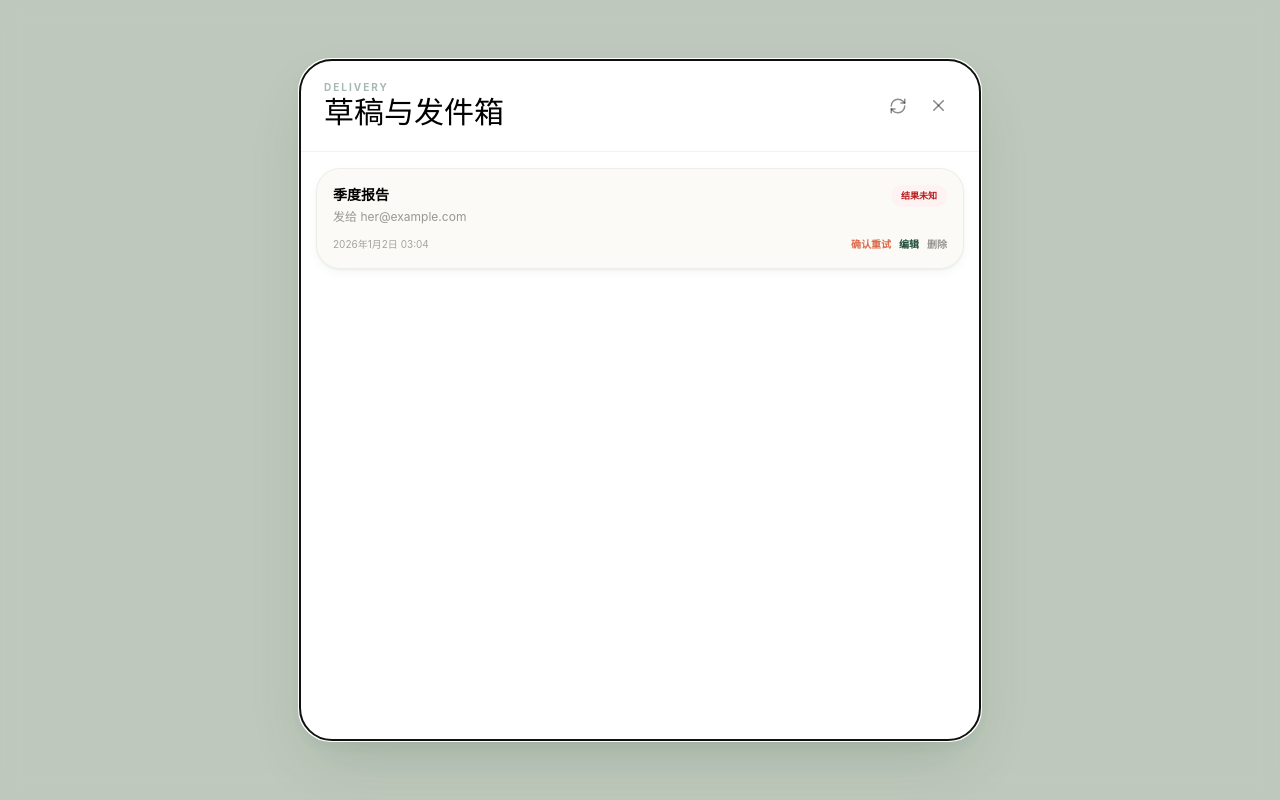
Test case: outbox dialog › surfaces a failed retry and keeps the row actionable
Click the button "确认重试": (871, 244) left=851, top=237, right=891, bottom=252
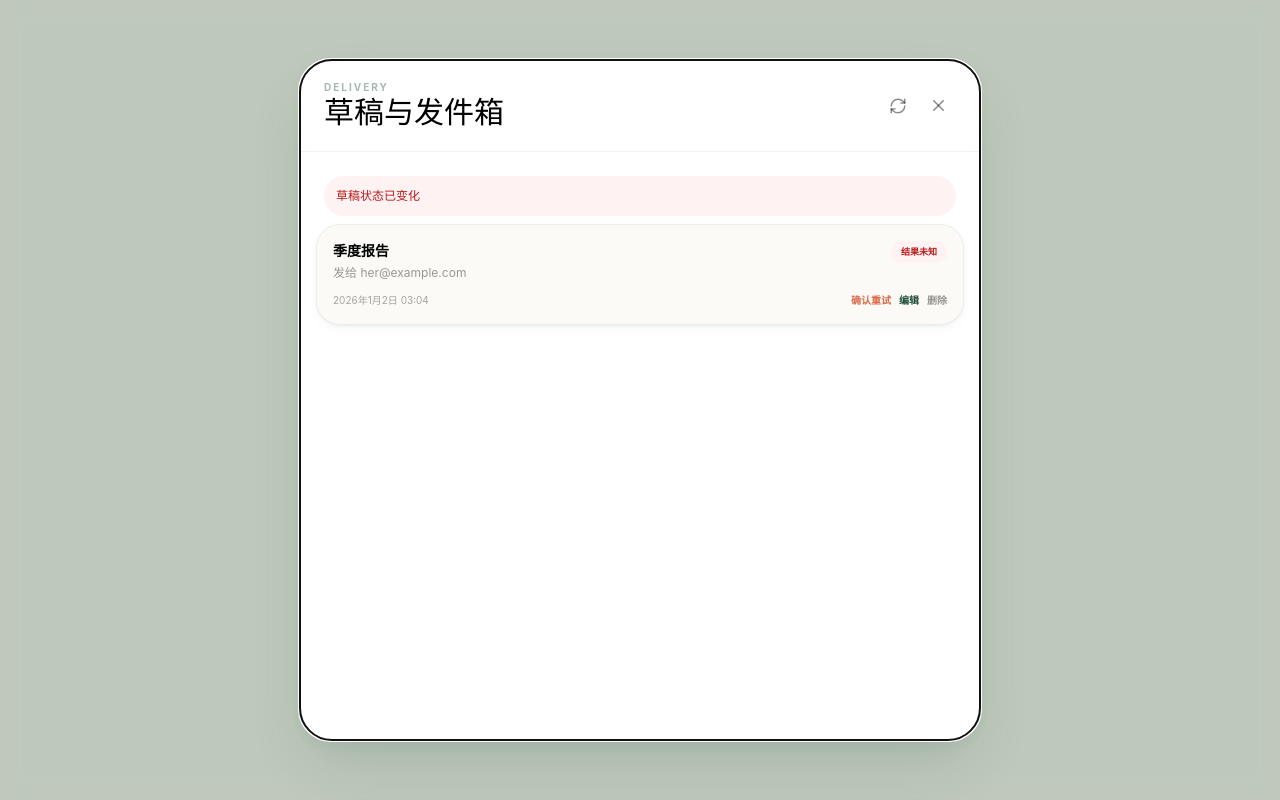
expect the button "确认重试" is shown: met, box left=851, top=293, right=891, bottom=308
expect the text "草稿状态已变化" is shown: met, box left=324, top=176, right=956, bottom=216
